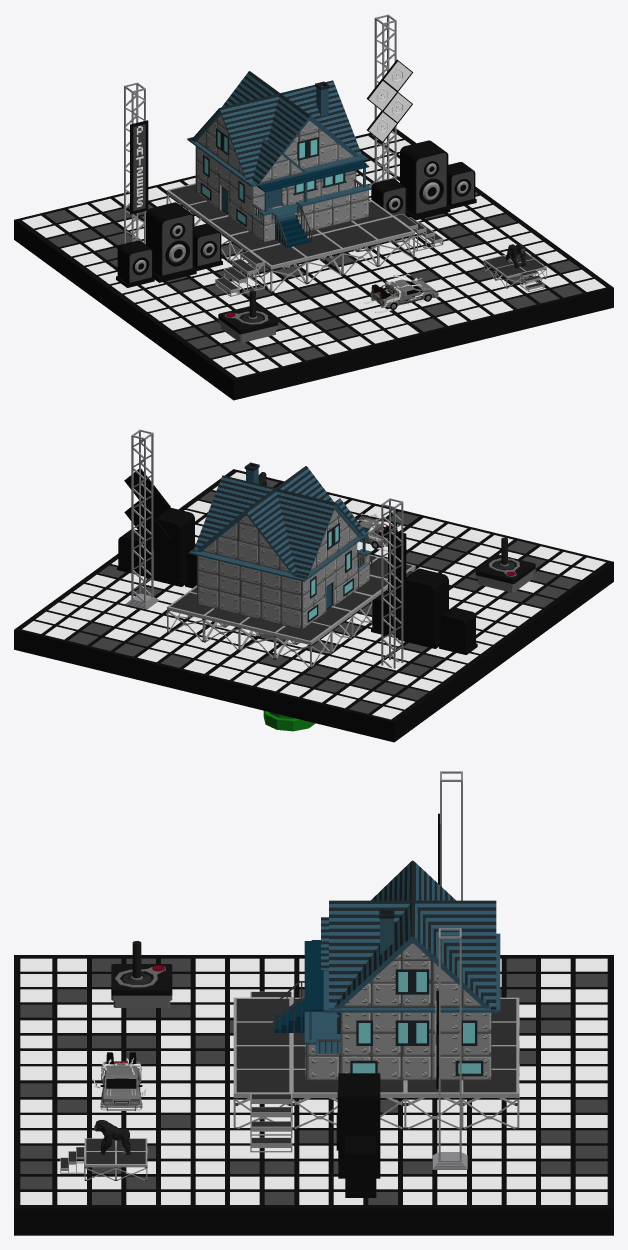
The picture shows the model from 3 angles, top to bottom: view 1: azimuth 30°, elevation 25°; view 2: azimuth 150°, elevation 25°; view 3: azimuth 270°, elevation 25°; orthographic projection. The views are drawn at different scales.
Visible parts, largest first — view 1: Cube.008, Cube.078, OBJRANDOM_JOYSTICK, VEHICLES_DELOREAN; view 2: Cube.008, Cube.078, OBJRANDOM_JOYSTICK, VEHICLES_DELOREAN, UNDERGROUND_PIPES; view 3: Cube.008, Cube.078, OBJRANDOM_JOYSTICK, VEHICLES_DELOREAN, ANIMAL_GORILA.
Part boxes in pixels (<box>): Cube.008: <box>14,14,613,400</box>; Cube.078: <box>187,71,371,248</box>; OBJRANDOM_JOYSTICK: <box>218,290,278,342</box>; VEHICLES_DELOREAN: <box>358,274,438,313</box>; Cube.008: <box>14,429,613,742</box>; Cube.078: <box>189,462,372,629</box>; OBJRANDOM_JOYSTICK: <box>475,537,535,592</box>; VEHICLES_DELOREAN: <box>357,513,408,551</box>; UNDERGROUND_PIPES: <box>263,711,315,731</box>; Cube.008: <box>14,771,613,1235</box>; Cube.078: <box>272,860,500,1080</box>; OBJRANDOM_JOYSTICK: <box>111,941,172,1007</box>; VEHICLES_DELOREAN: <box>92,1052,146,1110</box>; ANIMAL_GORILA: <box>94,1120,130,1154</box>.
Bounding box in the file's own units: 4000 × 2555 × 4000.
Materials: 41 (3 with a texture image).
